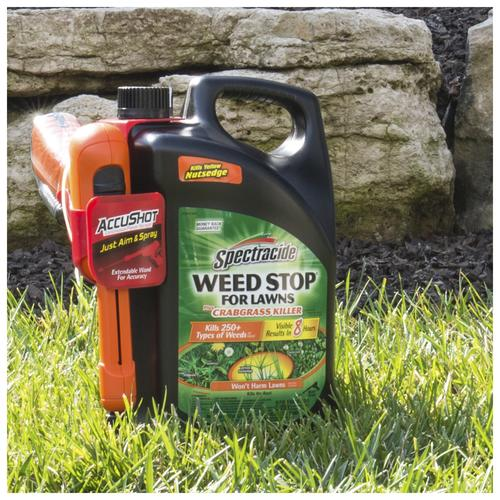crabgrass: (186, 351, 231, 387)
